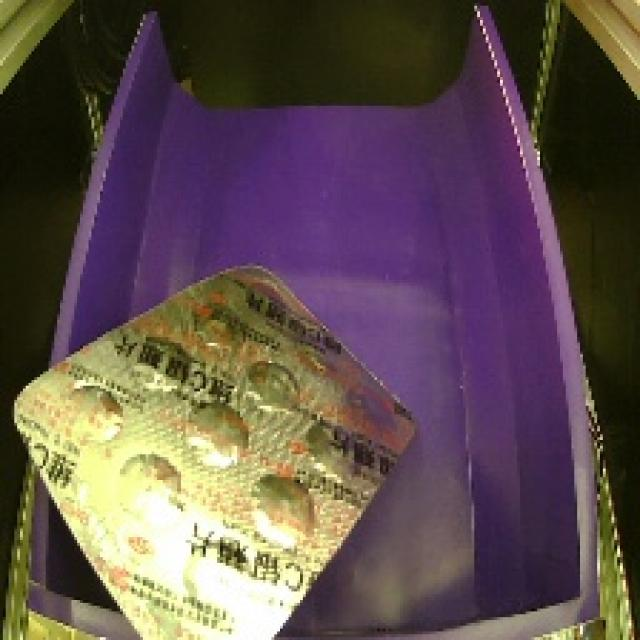med_plate: (7, 254, 433, 640)
